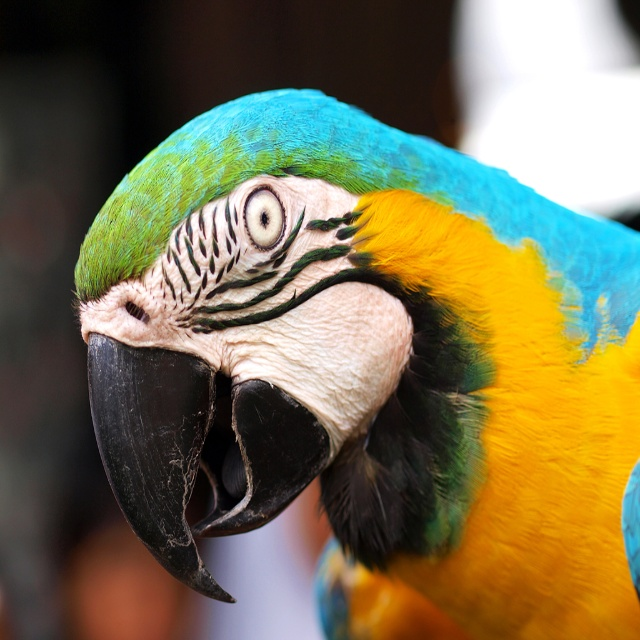Parrot: (72, 84, 640, 639)
